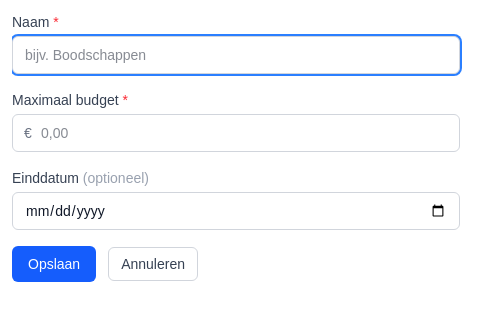
Scenario: CategoryForm › validation › shows an error when the budget is zero
Type "Test" into the field with placeholder "bijv. Boodschappen" at (236, 55), box [12,36,460,74]
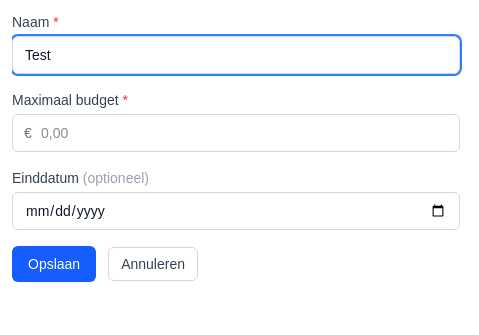
Type "0" into the number field at (236, 133), box [12,114,460,152]
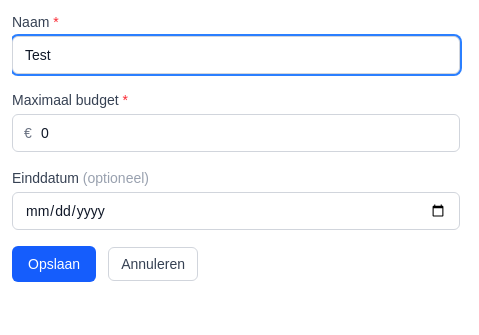
Submit the form
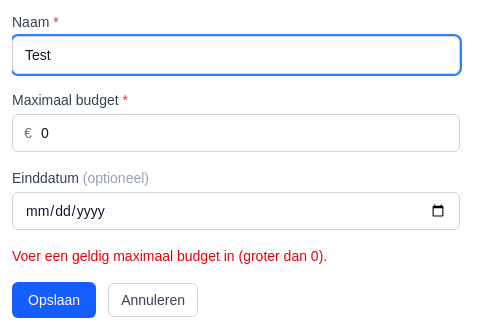
Now the text "Voer een geldig maximaal budget in (groter dan 0)." is shown, box [12,248,327,264]
